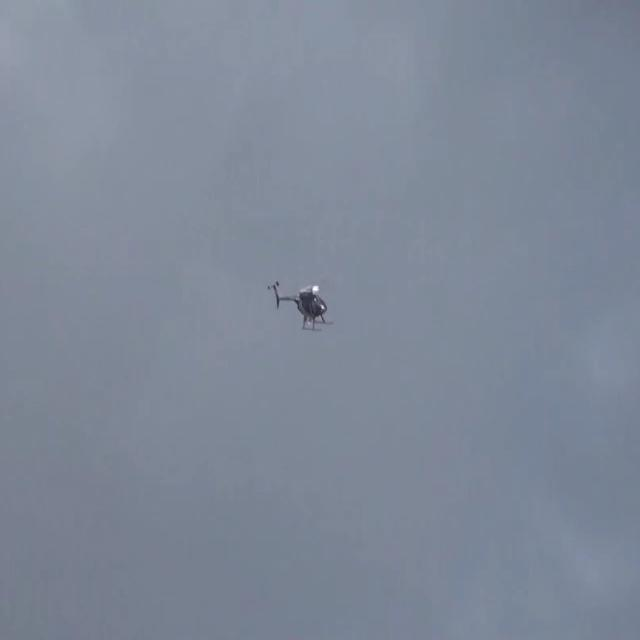Helicopter: (247, 250, 351, 344)
